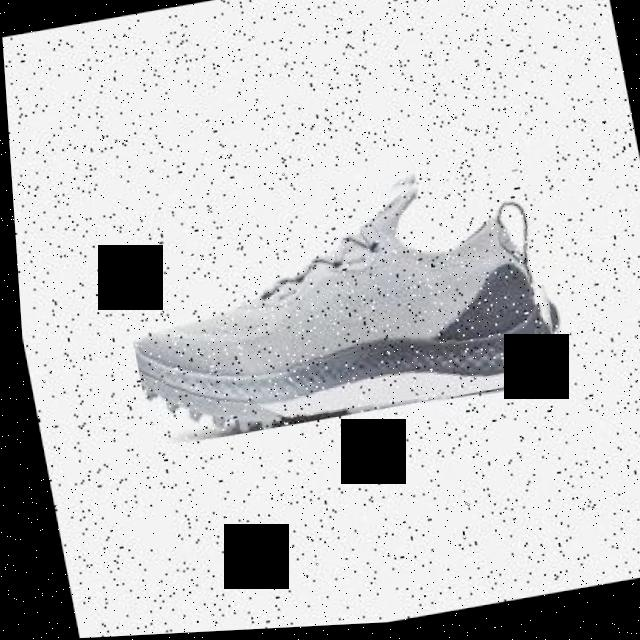shoe: (104, 153, 568, 451)
